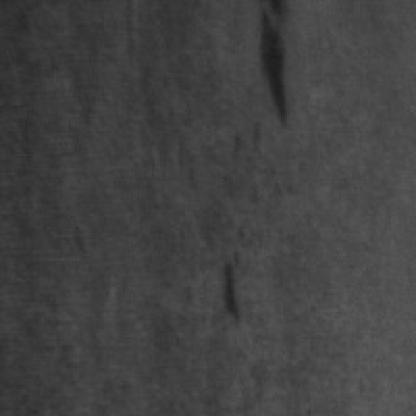inclusion: (258, 0, 304, 127), (212, 245, 254, 326)
